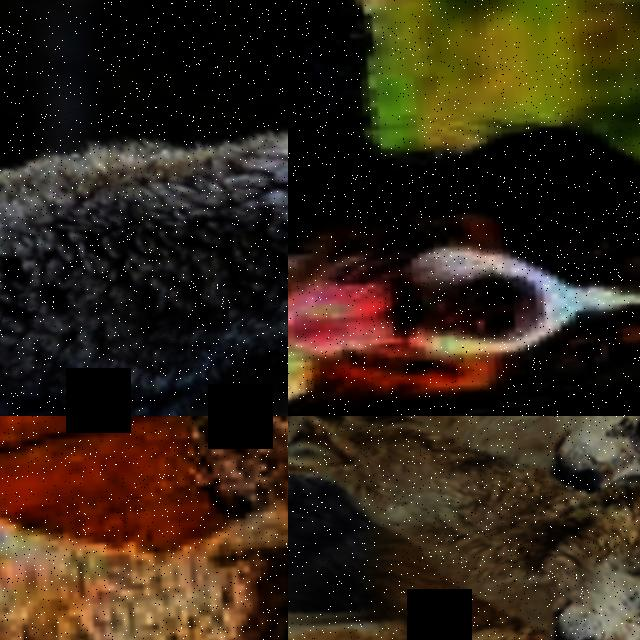dog: (288, 0, 640, 416), (0, 416, 288, 640)
wolf: (0, 90, 288, 416), (377, 434, 640, 640), (288, 416, 640, 541), (288, 551, 640, 640)
